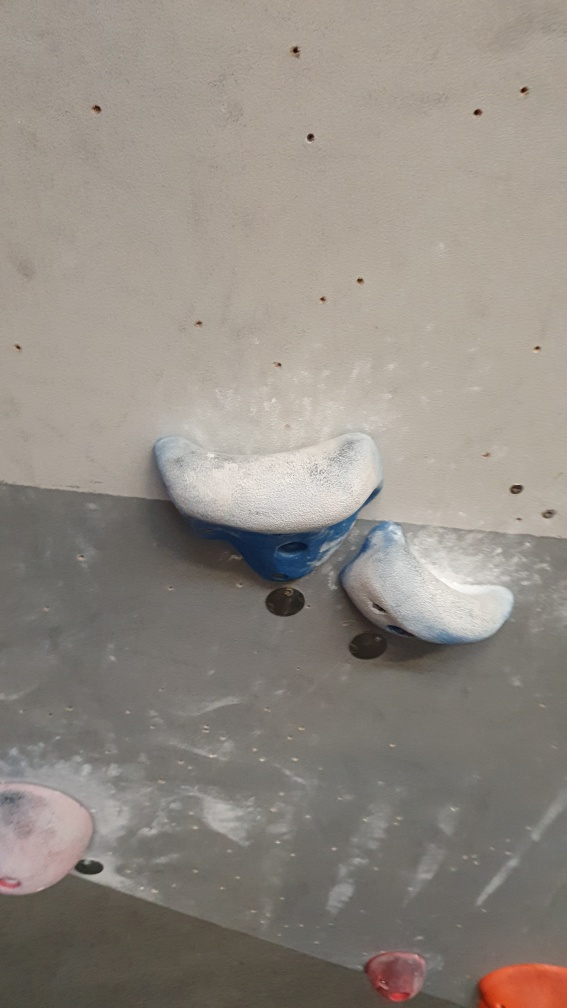Hand Start: (256, 578, 310, 625), (344, 626, 395, 670), (78, 853, 108, 880)
Jug: (151, 428, 386, 588), (341, 517, 515, 661)
Sloper: (1, 771, 100, 905), (362, 938, 430, 1008)
